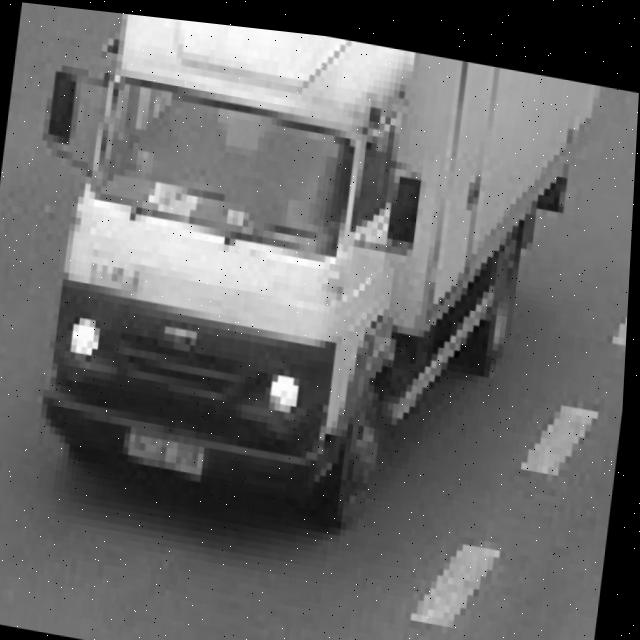truck: (1, 3, 454, 539)
